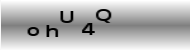4: (81, 21, 96, 36)
Q: (95, 8, 112, 25)
U: (57, 9, 75, 24)
h: (44, 23, 59, 38)
o: (26, 26, 40, 37)
